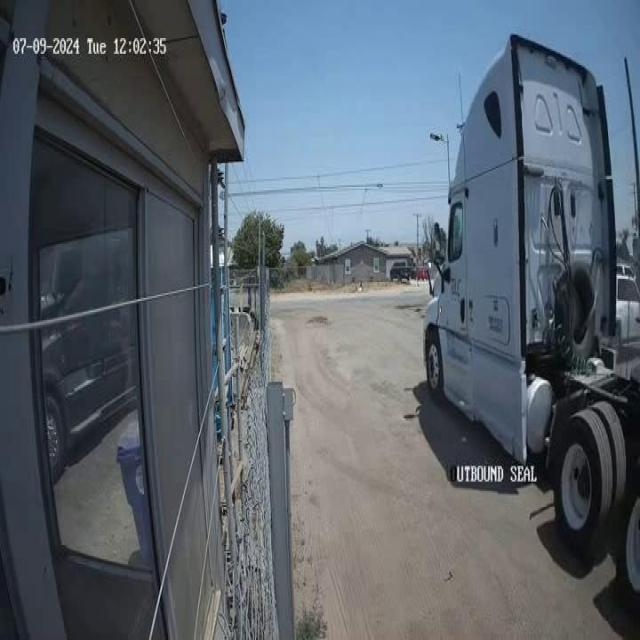TRUCK_OUT: (422, 32, 638, 553)
